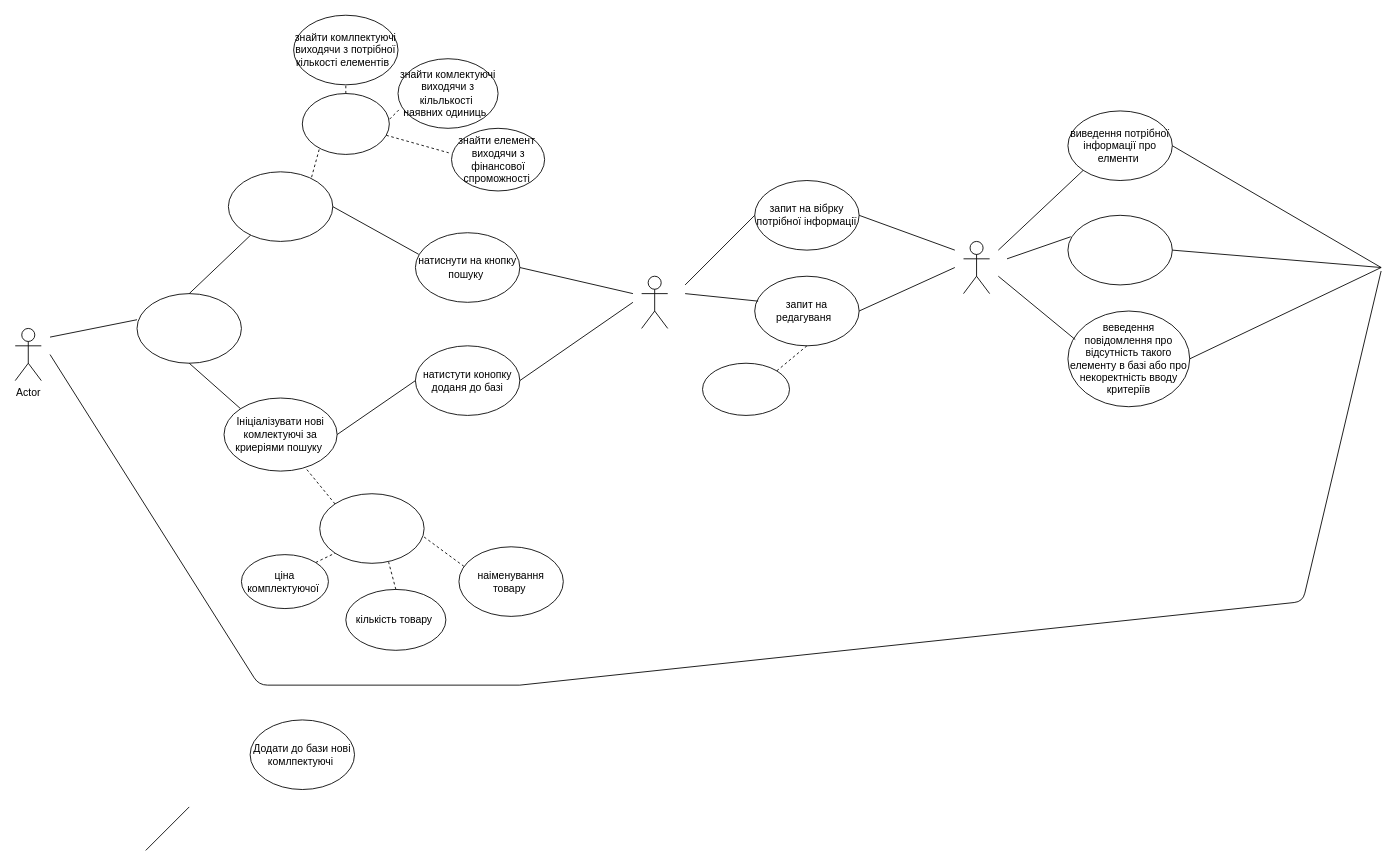
This 1397x867 diagram has some shape labels left out. Each missing label, with the centre of its shape:
Аналізатор: pixel 654 301
БД: pixel 976 267
ввести значення характеристк елементу: pixel 371 528
вести порібний критерій пошуку: pixel 345 123
вибрати актуальне: pixel 188 328
внесення критеріїв змін: pixel 746 388
знайти потрібні комплектуючі: pixel 280 206
створення та збереження нових елементів з відповідними рядами: pixel 1119 249
